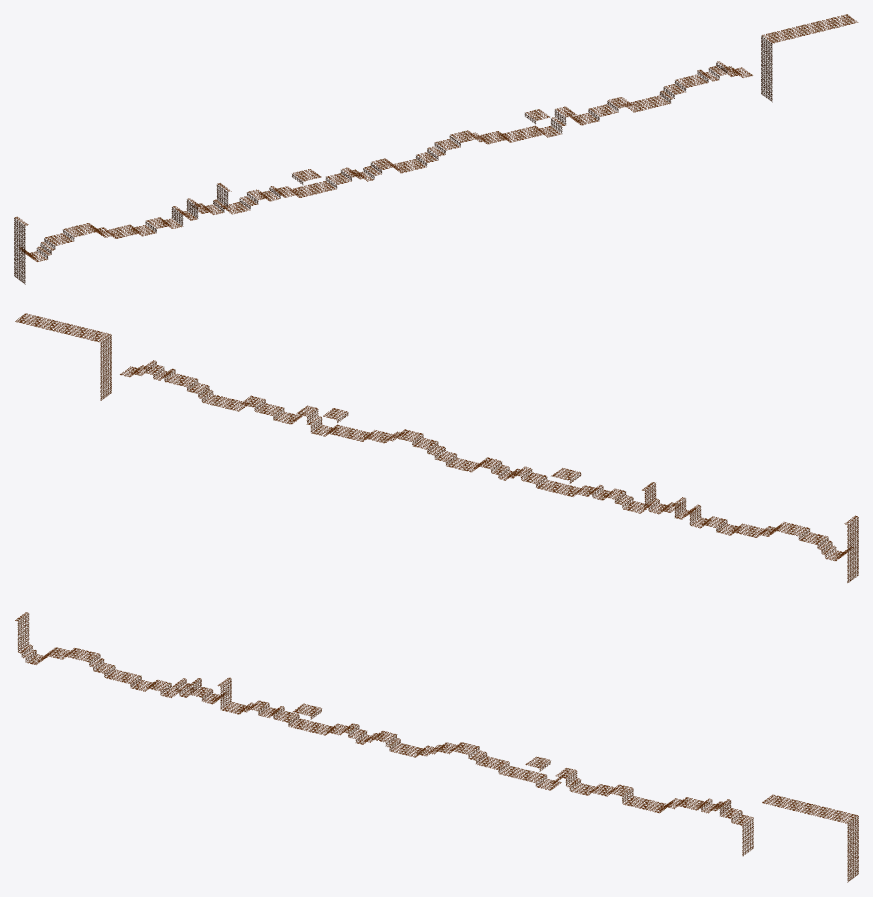
Rendered from Luna2Rachadura11.glb.
The picture shows the model from 3 angles, top to bottom: view 1: azimuth 30°, elevation 25°; view 2: azimuth 150°, elevation 25°; view 3: azimuth 330°, elevation 25°; orthographic projection.
Visible parts, largest first — view 1: Setor_1, Setor_6, Setor_4, Setor_2, Setor_5, Setor_3, Setor_0, Setor_-1; view 2: Setor_1, Setor_6, Setor_4, Setor_2, Setor_5, Setor_3, Setor_0, Setor_-1; view 3: Setor_6, Setor_0, Setor_4, Setor_2, Setor_1, Setor_5, Setor_3.
Part boxes in pixels (box(x1,y1,x2,y2)): Setor_1: box(134, 183, 264, 235); Setor_6: box(735, 14, 858, 102); Setor_4: box(495, 98, 625, 142); Setor_2: box(255, 161, 385, 201); Setor_5: box(615, 61, 745, 112); Setor_3: box(375, 130, 505, 173); Setor_0: box(14, 216, 145, 261); Setor_-1: box(14, 218, 25, 284); Setor_1: box(608, 482, 737, 534); Setor_6: box(15, 313, 137, 400); Setor_4: box(248, 397, 377, 441); Setor_2: box(487, 460, 617, 500); Setor_5: box(127, 360, 257, 411); Setor_3: box(367, 429, 497, 472); Setor_0: box(728, 515, 857, 560); Setor_-1: box(847, 517, 858, 582); Setor_6: box(735, 794, 858, 882); Setor_0: box(15, 612, 144, 688); Setor_4: box(495, 756, 625, 796); Setor_2: box(255, 702, 385, 744); Setor_1: box(135, 677, 265, 714); Setor_5: box(615, 786, 745, 823); Setor_3: box(375, 731, 504, 769).
Bounding box in the file's own units: 231 × 15.6 × 5.6.
1 material, 1 textured.
